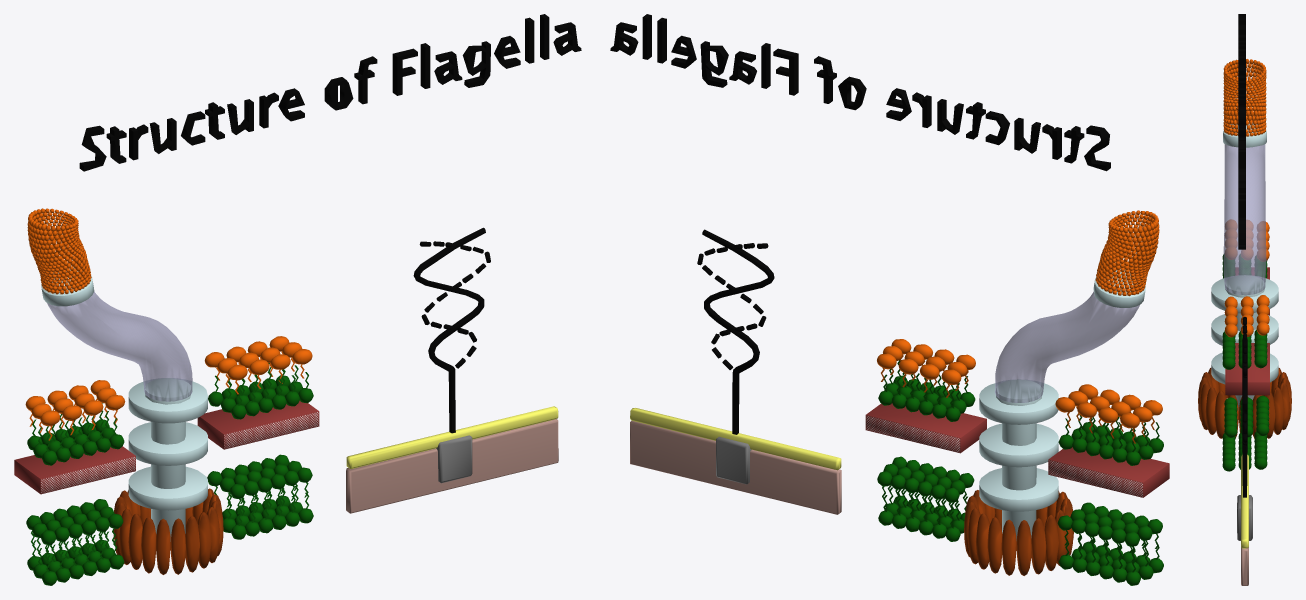
Rendered from Fiagena.glb.
3 views of the same model, side by side, from view 1: azimuth 30°, elevation 25°; view 2: azimuth 150°, elevation 25°; view 3: azimuth 270°, elevation 25° (orthographic). The views are drawn at different scales.
Parts seen in each view (by area): view 1: polySurface129, polySurface90, pCylinder5, polySurface129_lambert1_0.001; view 2: polySurface129, polySurface90, pCylinder5, polySurface129_lambert1_0.001; view 3: polySurface129, pCylinder5, polySurface90, polySurface129_lambert1_0.001.
Boxes of the visible parts, bbox=[...] form: polySurface129: bbox=[14, 219, 558, 585]; polySurface90: bbox=[79, 14, 581, 171]; pCylinder5: bbox=[47, 291, 192, 401]; polySurface129_lambert1_0.001: bbox=[27, 208, 90, 290]; polySurface129: bbox=[630, 210, 1169, 585]; polySurface90: bbox=[610, 14, 1110, 171]; pCylinder5: bbox=[995, 291, 1139, 402]; polySurface129_lambert1_0.001: bbox=[1096, 210, 1159, 292]; polySurface129: bbox=[1198, 59, 1291, 585]; pCylinder5: bbox=[1223, 144, 1266, 295]; polySurface90: bbox=[1238, 14, 1245, 249]; polySurface129_lambert1_0.001: bbox=[1223, 59, 1266, 133].
Size of the model in its own units: 0.8297 by 0.6514 by 0.1455.
Materials: 3 (2 with a texture image).
